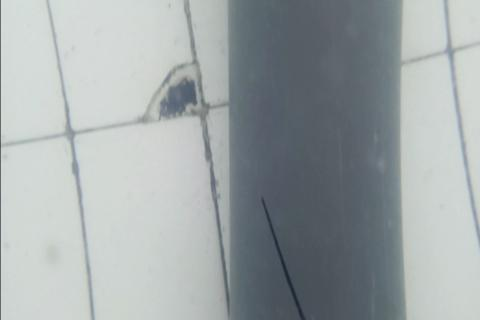keretakan: (261, 195, 306, 320)
